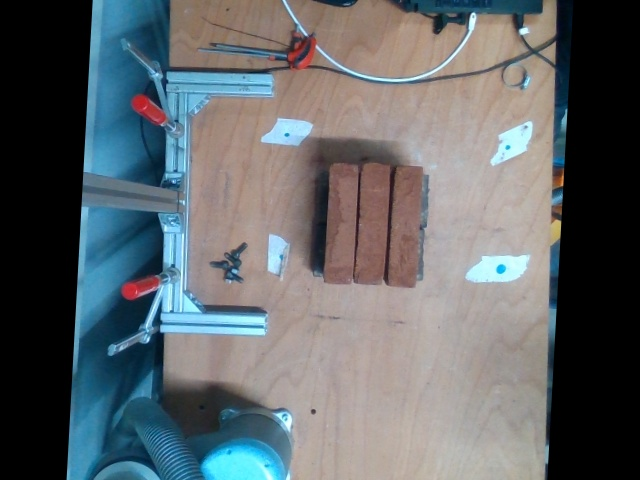brick-side: (325, 163, 360, 283), (355, 163, 390, 283), (388, 167, 423, 287)
